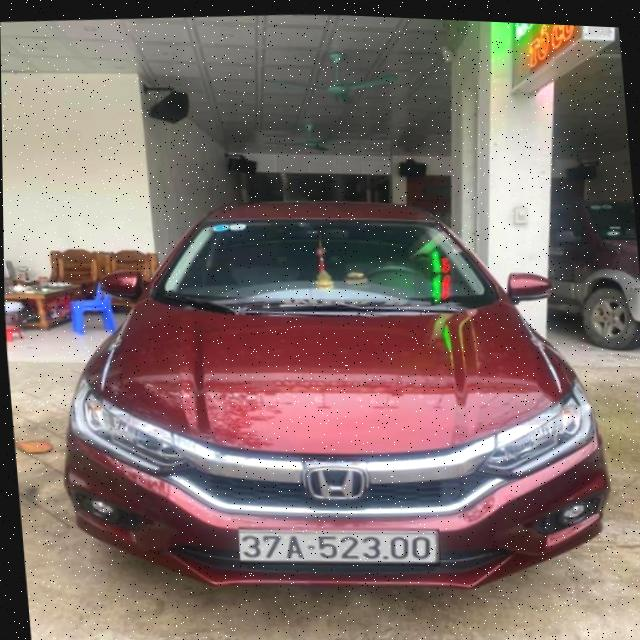car: (41, 174, 620, 625), (525, 26, 640, 384)
plate: (232, 500, 449, 586)
